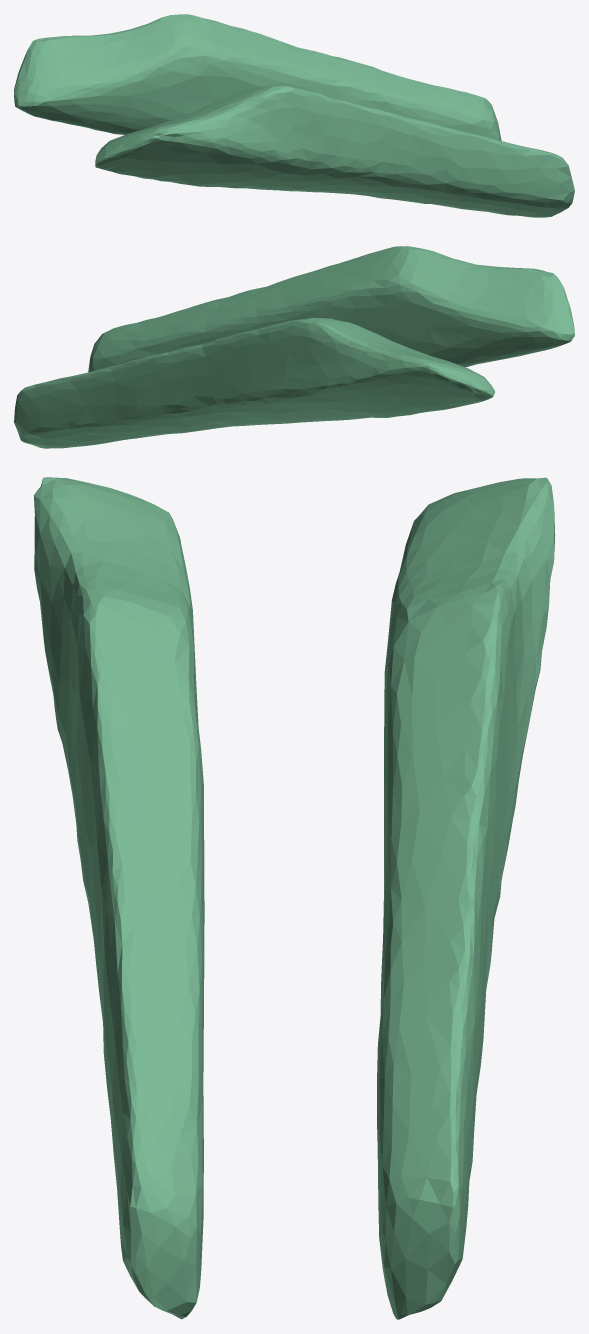
3 views of the same model, one above another, from view 1: azimuth 30°, elevation 25°; view 2: azimuth 150°, elevation 25°; view 3: azimuth 270°, elevation 25° (orthographic). The views are drawn at different scales.
Parts seen in each view (by area): view 1: 1015.obj; view 2: 1015.obj; view 3: 1015.obj.
Boxes of the visible parts, x1,y1,x2,y2 form: 1015.obj: (14,14,574,217); 1015.obj: (14,246,574,448); 1015.obj: (33,477,555,1319).
Bounding box in the file's own units: 3407 × 1475 × 1603.
